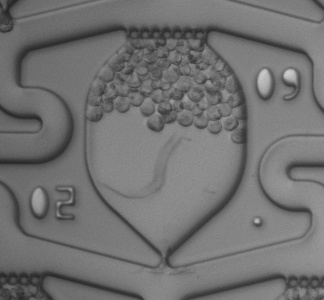AptNum: (249, 60, 311, 105)
Marker: (243, 208, 273, 235)
StNum: (22, 178, 84, 228)
Trap: (140, 244, 184, 286)
